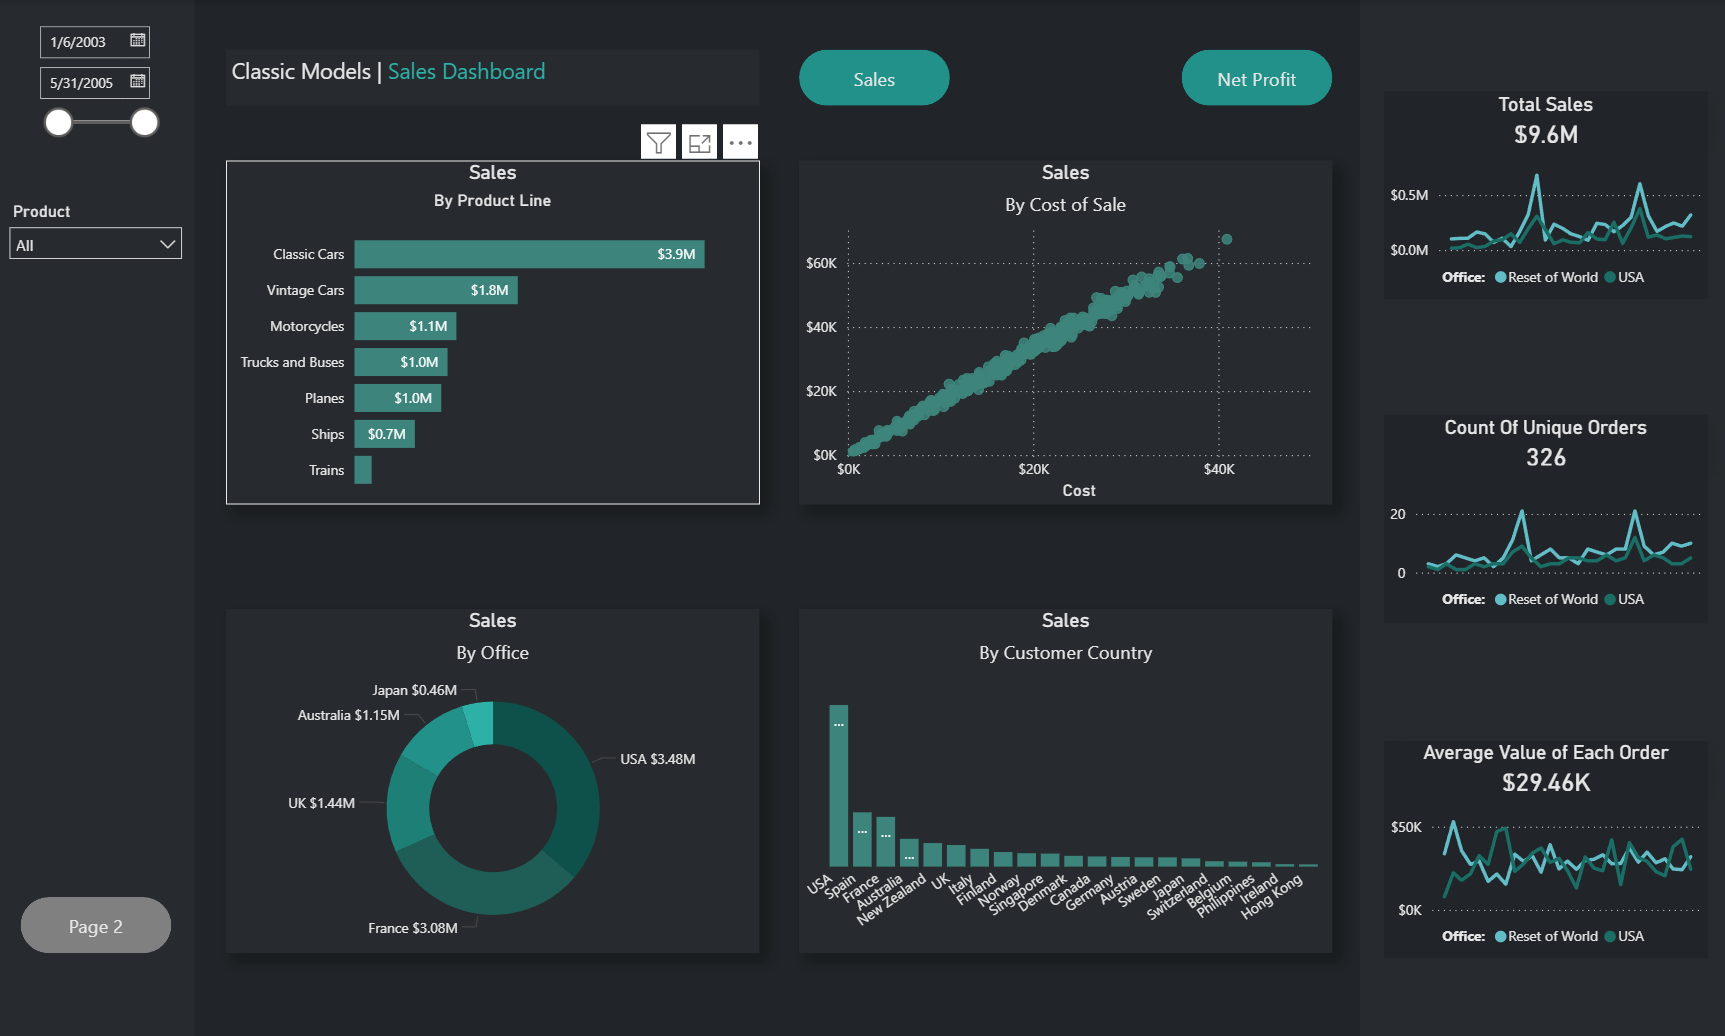

The dashboard page shown, as its layout file describes it:
{"tool":"powerbi","page":{"name":"Sales Overview - Page 1","canvas":[1500,900],"ordinal":0},"visuals":[{"type":"shape","box":[0,0,170,900.5],"z":0},{"type":"shape","box":[1179.7,0,320.3,900.5],"z":1000},{"type":"shape","box":[1200.2,78.6,280.4,180.1],"z":2000},{"type":"shape","box":[1200.2,641.7,280.4,180.1],"z":3000},{"type":"shape","box":[1200.2,360.2,280.4,180.1],"z":4000},{"type":"card","title":"Total Sales","fields":{"Values":["Sum(classicmodels sales_data_for_power_bi.sales_value)"]},"box":[1200.2,80.9,280.4,45.6],"z":5000},{"type":"card","title":"Count Of Unique Orders","fields":{"Values":["Count(classicmodels sales_data_for_power_bi.orderNumber)"]},"box":[1200.2,360.2,280.4,45.6],"z":6000},{"type":"card","title":"Average Value of Each Order","fields":{"Values":["classicmodels sales_data_for_power_bi.Average Sales Value per Order"]},"box":[1200.2,641.7,280.4,45.6],"z":7000},{"type":"lineChart","fields":{"Y":["Sum(classicmodels sales_data_for_power_bi.sales_value)"],"Category":["classicmodels sales_data_for_power_bi.orderdate.Variation.Date Hierarchy.Year","classicmodels sales_data_for_power_bi.orderdate.Variation.Date Hierarchy.Quarter","classicmodels sales_data_for_power_bi.orderdate.Variation.Date Hierarchy.Month"],"Series":["classicmodels sales_data_for_power_bi.Office Grouped"]},"box":[1200.2,126.5,280.4,132.2],"z":8000},{"type":"lineChart","fields":{"Category":["classicmodels sales_data_for_power_bi.orderdate.Variation.Date Hierarchy.Year","classicmodels sales_data_for_power_bi.orderdate.Variation.Date Hierarchy.Quarter","classicmodels sales_data_for_power_bi.orderdate.Variation.Date Hierarchy.Month"],"Series":["classicmodels sales_data_for_power_bi.Office Grouped"],"Y":["Count(classicmodels sales_data_for_power_bi.orderNumber)"]},"box":[1200.2,405.8,280.4,132.2],"z":9000},{"type":"lineChart","fields":{"Category":["classicmodels sales_data_for_power_bi.orderdate.Variation.Date Hierarchy.Year","classicmodels sales_data_for_power_bi.orderdate.Variation.Date Hierarchy.Quarter","classicmodels sales_data_for_power_bi.orderdate.Variation.Date Hierarchy.Month"],"Series":["classicmodels sales_data_for_power_bi.Office Grouped"],"Y":["classicmodels sales_data_for_power_bi.Average Sales Value per Order"]},"box":[1200.2,687.3,280.4,142.5],"z":10000},{"type":"clusteredBarChart","fields":{"Y":["Table.Selected Metric"],"Category":["classicmodels sales_data_for_power_bi.productLine"]},"box":[197.3,138.5,462.2,298.2],"z":11000},{"type":"actionButton","box":[693.8,43.2,130.8,48.8],"z":12000},{"type":"actionButton","box":[1025.2,43.2,130.8,48.8],"z":13000},{"type":"scatterChart","fields":{"X":["Sum(classicmodels sales_data_for_power_bi.cost_of_sales)"],"Category":["classicmodels sales_data_for_power_bi.orderNumber"],"Y":["Table.Selected Metric"]},"box":[693.8,138.5,462.2,298.2],"z":15000},{"type":"donutChart","fields":{"Y":["Table.Selected Metric"],"Category":["classicmodels sales_data_for_power_bi.office_country"]},"box":[197.3,527.6,462.2,298.2],"z":16000},{"type":"columnChart","fields":{"Y":["Table.Selected Metric"],"Category":["classicmodels sales_data_for_power_bi.customer_country"]},"box":[693.8,527.6,462.2,298.2],"z":17000},{"type":"textbox","box":[197.3,43.2,462.2,48.8],"z":18000},{"type":"actionButton","box":[20,777,130.8,48.8],"z":18001},{"type":"slicer","fields":{"Values":["classicmodels sales_data_for_power_bi.orderdate"]},"box":[23.3,13.3,124.1,130.8],"z":18002},{"type":"slicer","fields":{"Values":["classicmodels sales_data_for_power_bi.productName"]},"box":[0,168.5,169.6,138.5],"z":18003}]}

Visuals, with their boxes on the page's 1500x900 design canvas (x1, y1, x2, y2). These are canvas units, not pixel positions in the 1725x1036 screenshot, which may show the page scaled, cropped or inside an application window:
shape: bbox=(0, 0, 170, 900)
shape: bbox=(1180, 0, 1500, 900)
shape: bbox=(1200, 79, 1481, 259)
shape: bbox=(1200, 642, 1481, 822)
shape: bbox=(1200, 360, 1481, 540)
"Total Sales" card: bbox=(1200, 81, 1481, 126)
"Count Of Unique Orders" card: bbox=(1200, 360, 1481, 406)
"Average Value of Each Order" card: bbox=(1200, 642, 1481, 687)
lineChart - Sum(classicmodels sales_data_for_power_bi.sales_value) x classicmodels sales_data_for_power_bi.orderdate.Variation.Date Hierarchy.Year: bbox=(1200, 126, 1481, 259)
lineChart - classicmodels sales_data_for_power_bi.orderdate.Variation.Date Hierarchy.Year x classicmodels sales_data_for_power_bi.orderdate.Variation.Date Hierarchy.Quarter: bbox=(1200, 406, 1481, 538)
lineChart - classicmodels sales_data_for_power_bi.orderdate.Variation.Date Hierarchy.Year x classicmodels sales_data_for_power_bi.orderdate.Variation.Date Hierarchy.Quarter: bbox=(1200, 687, 1481, 830)
clusteredBarChart - Table.Selected Metric x classicmodels sales_data_for_power_bi.productLine: bbox=(197, 138, 660, 437)
actionButton: bbox=(694, 43, 825, 92)
actionButton: bbox=(1025, 43, 1156, 92)
scatterChart - Sum(classicmodels sales_data_for_power_bi.cost_of_sales) x classicmodels sales_data_for_power_bi.orderNumber: bbox=(694, 138, 1156, 437)
donutChart - Table.Selected Metric x classicmodels sales_data_for_power_bi.office_country: bbox=(197, 528, 660, 826)
columnChart - Table.Selected Metric x classicmodels sales_data_for_power_bi.customer_country: bbox=(694, 528, 1156, 826)
textbox: bbox=(197, 43, 660, 92)
actionButton: bbox=(20, 777, 151, 826)
slicer - classicmodels sales_data_for_power_bi.orderdate: bbox=(23, 13, 147, 144)
slicer - classicmodels sales_data_for_power_bi.productName: bbox=(0, 168, 170, 307)
